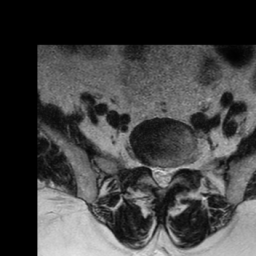CCS_normal: (158, 157, 166, 193)
LFS_stenosis: (174, 156, 183, 177)
LLS_normal: (166, 159, 174, 189)
RFS_severe_stenosis: (142, 152, 150, 177)
RLS_normal: (150, 156, 158, 188)
